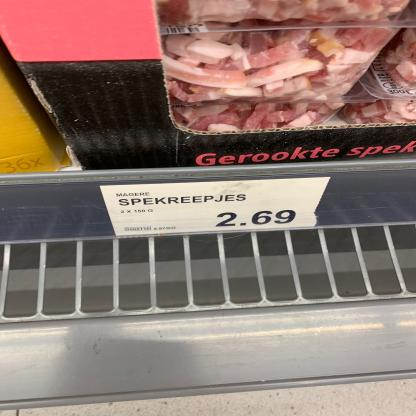prtg: (101, 178, 332, 237)
